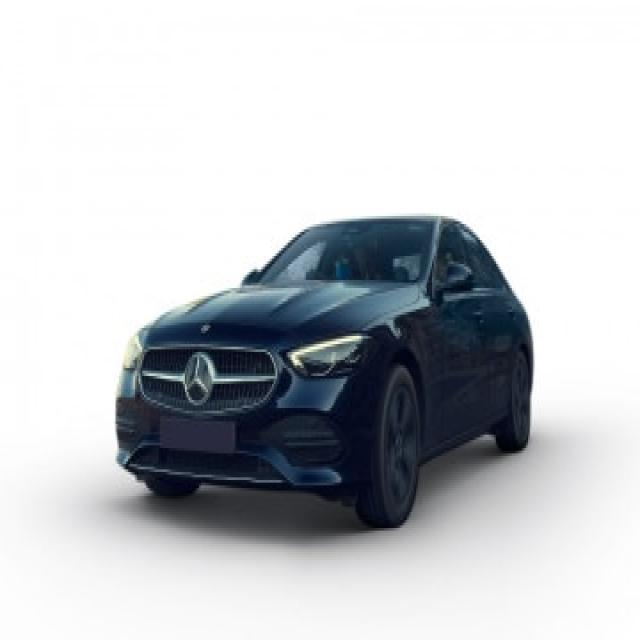Car: (109, 203, 538, 532)
